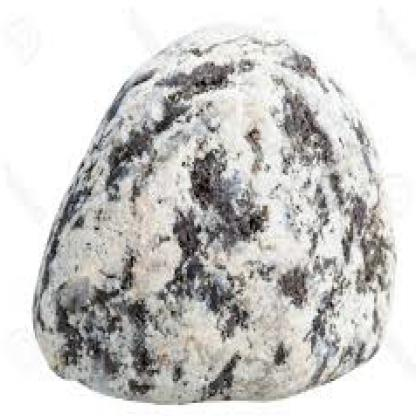Sedimentary_Chalk: (82, 136, 329, 379)
